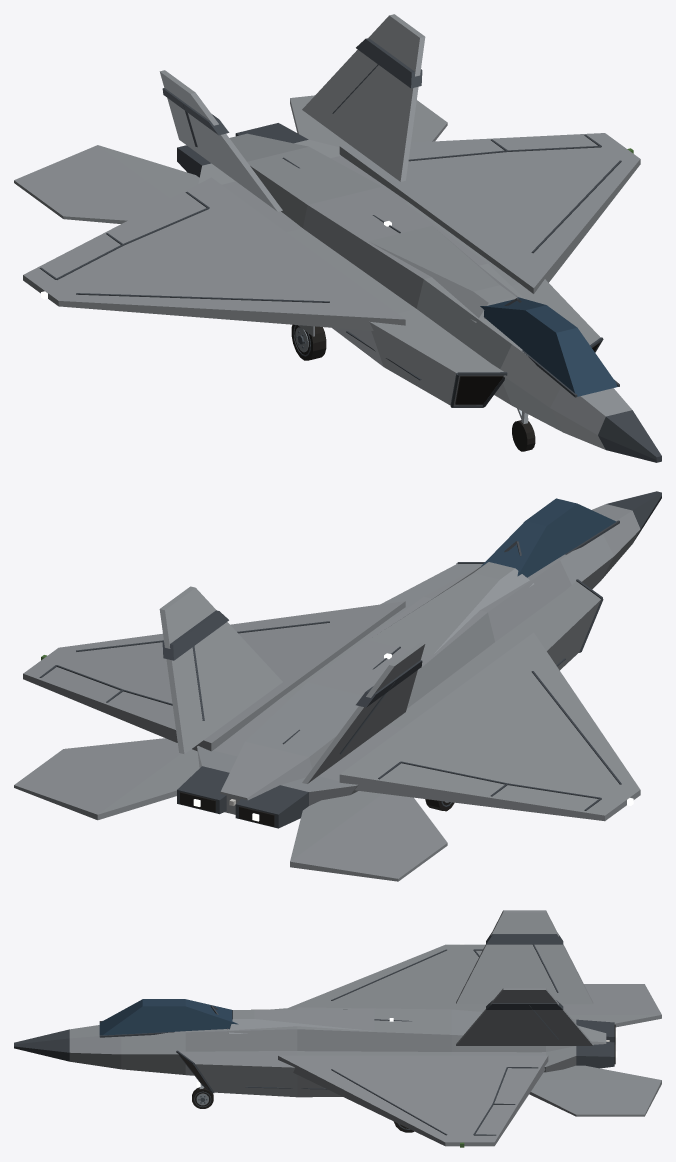
3 views of the same model, one above another, from view 1: azimuth 30°, elevation 25°; view 2: azimuth 150°, elevation 25°; view 3: azimuth 270°, elevation 25° (orthographic). The views are drawn at different scales.
Parts seen in each view (by area): view 1: wings, fuselage, tail, gear; view 2: wings, fuselage, tail; view 3: fuselage, wings, tail, gear.
Boxes of the visible parts, x1,y1,x2,y2 form: wings: (23, 133, 640, 330); fuselage: (177, 123, 661, 462); tail: (14, 14, 447, 223); gear: (291, 324, 535, 451); wings: (23, 601, 640, 821); fuselage: (177, 491, 661, 828); tail: (14, 586, 447, 881); fuselage: (14, 999, 617, 1097); wings: (278, 943, 548, 1147); tail: (456, 910, 661, 1116); gear: (186, 1075, 414, 1132).
Size of what is drawn, in the model's own units: 13.81 by 5.06 by 18.88.
